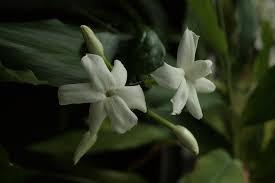jasmine: (144, 24, 232, 153), (60, 44, 147, 154)
